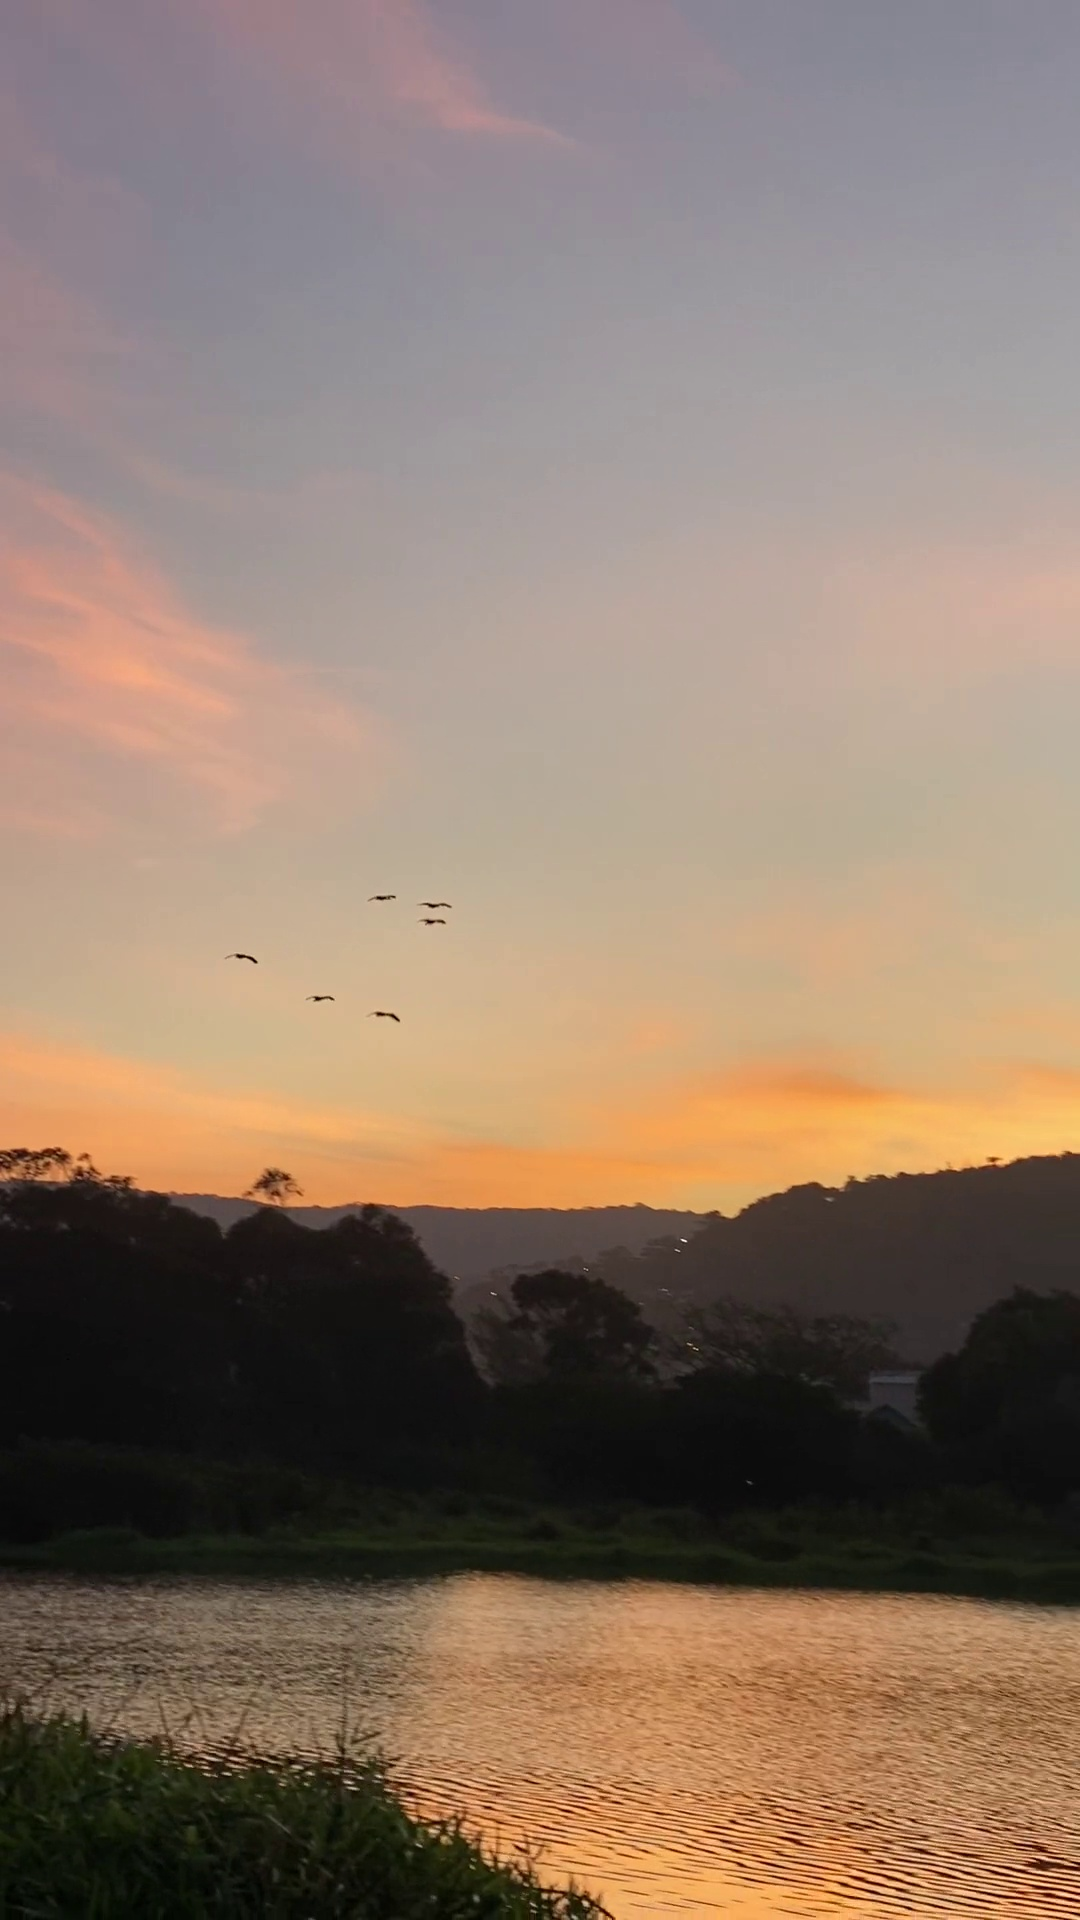bird: (367, 1009, 400, 1023), (419, 898, 452, 911), (225, 953, 257, 964), (306, 993, 335, 1004), (371, 894, 396, 903), (417, 916, 446, 924)
